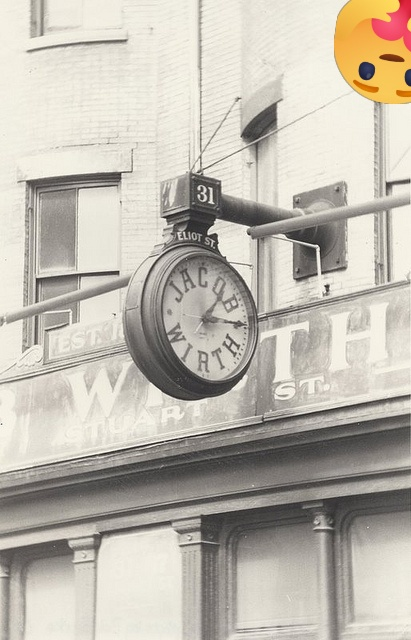care: (334, 0, 411, 104)
